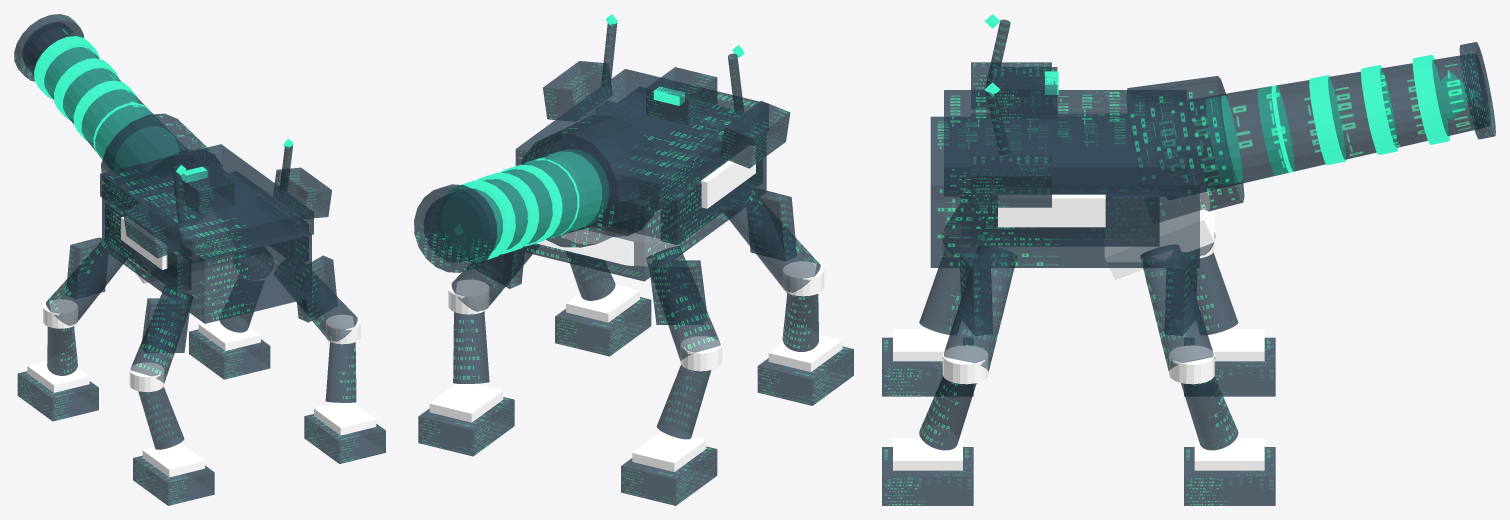
The model's file is canon.glb.
3 renders of one model, left to right at view 1: azimuth 30°, elevation 25°; view 2: azimuth 150°, elevation 25°; view 3: azimuth 270°, elevation 25°, orthographic. The views are drawn at different scales.
Visible parts, largest first — view 1: guerrier; view 2: guerrier; view 3: guerrier.
Boxes of the visible parts, x1,y1,x2,y2 form: guerrier: [14, 14, 385, 505]; guerrier: [414, 14, 853, 505]; guerrier: [882, 14, 1495, 505].
Size of the model in its own units: 1.27 by 1.6 by 2.28.
